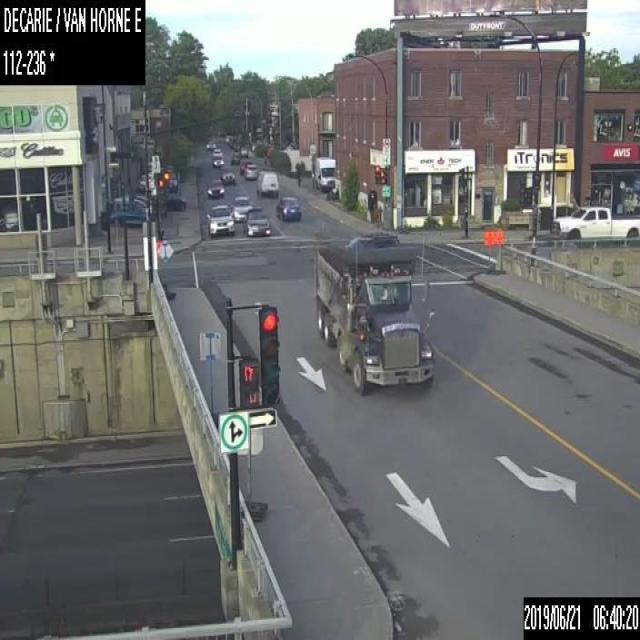construction: (237, 424, 266, 522), (197, 329, 220, 426), (156, 236, 174, 300), (493, 228, 503, 273), (484, 228, 493, 272)
vehicle: (314, 229, 436, 392), (550, 202, 639, 245), (106, 197, 154, 226), (242, 206, 270, 237), (206, 205, 234, 236), (313, 156, 336, 192), (274, 193, 301, 219), (257, 168, 278, 195), (232, 196, 252, 222), (164, 192, 186, 210), (206, 177, 224, 197), (220, 167, 234, 185), (242, 163, 256, 179), (239, 158, 250, 173), (212, 154, 223, 166), (230, 152, 240, 164)
